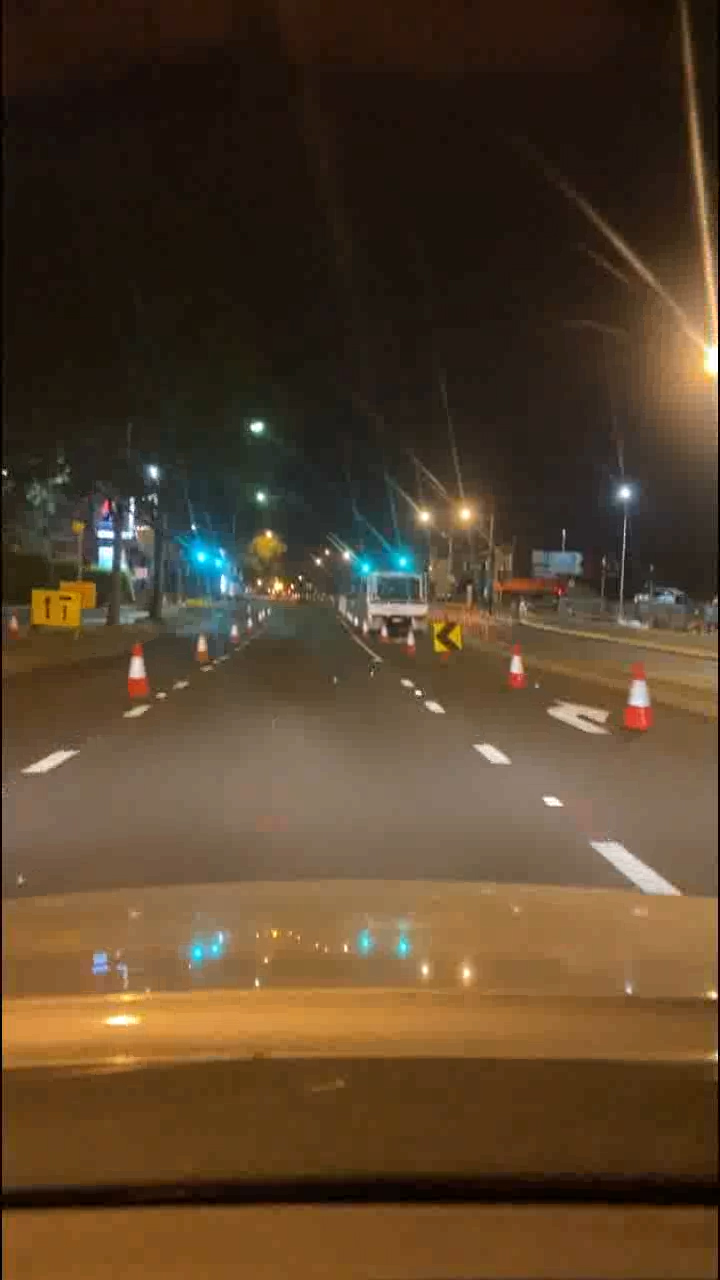road cone: (123, 638, 154, 704), (188, 622, 219, 688), (620, 663, 651, 729), (503, 634, 534, 700)
road works sign board: (29, 590, 85, 632), (435, 623, 458, 648)
truck: (341, 567, 429, 636)
